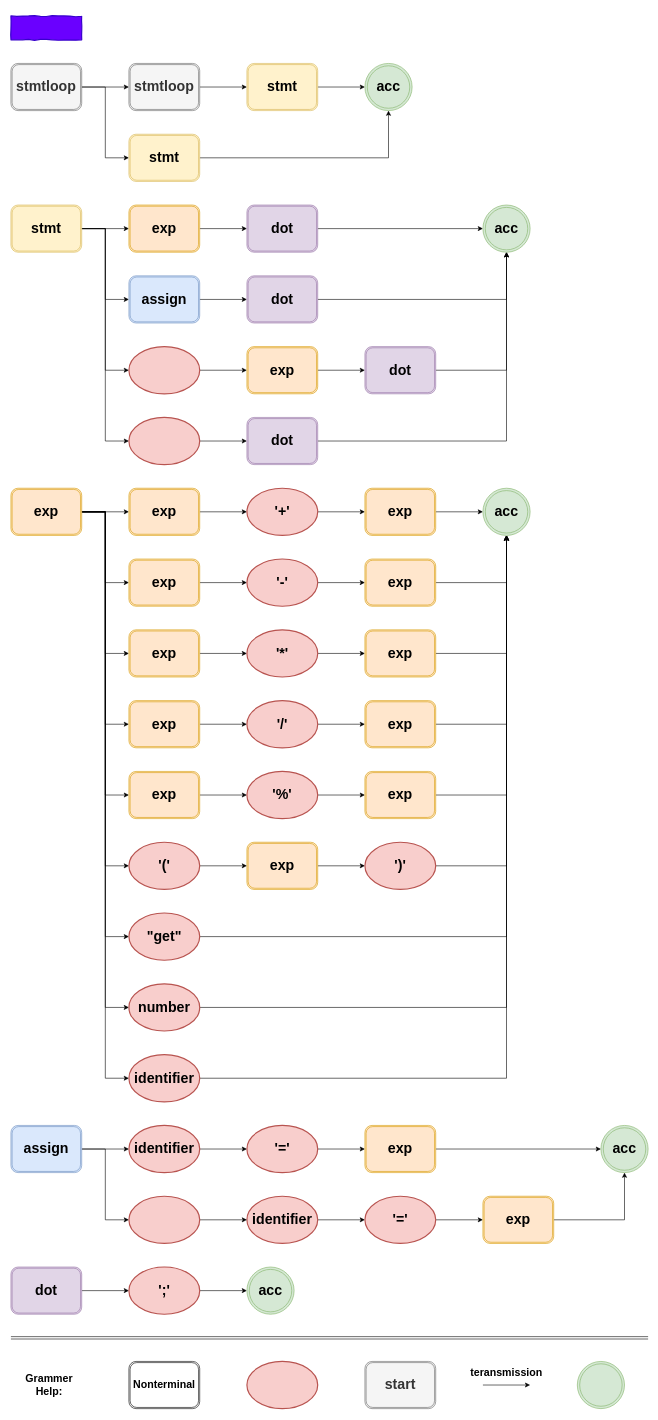
The diagram is 658 pixels wide and 1420 high, and some of its shapes have lost their labels. The shapes that lost their labels are listed below. From the top down, each one's centre as x and y in pixels, then its label:
(46,27): Grammer
(164,370): "print"
(164,441): "exit"
(164,1219): "int"
(282,1385): Terminal
(601,1385): accept
